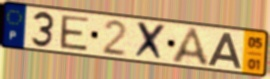2: (101, 18, 130, 58)
3: (30, 10, 56, 48)
A: (170, 26, 213, 69), (207, 31, 243, 71)
E: (59, 14, 91, 53)
X: (132, 20, 168, 64)
